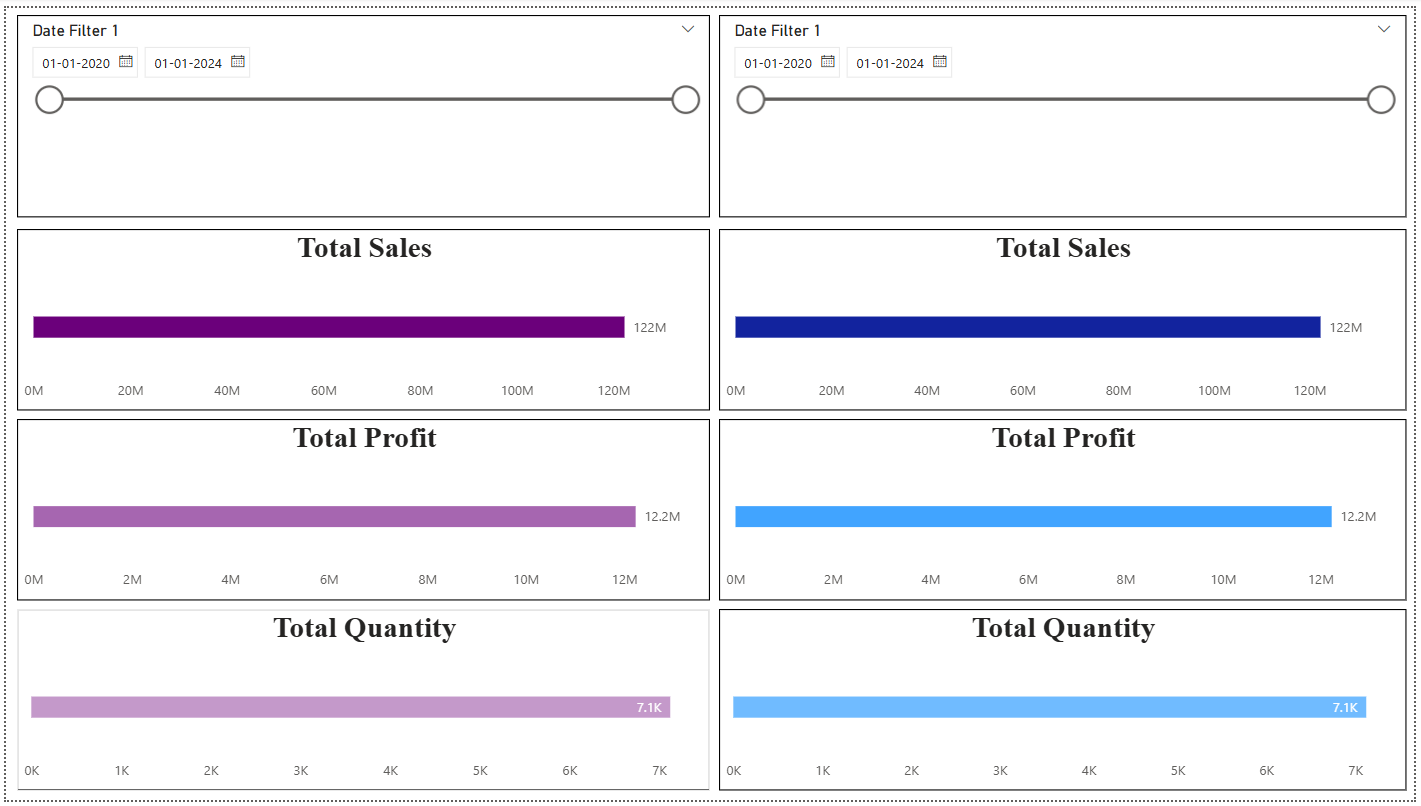

Layout of this report page (visuals, bound fields, positions):
{"tool":"powerbi","page":{"name":"Edit Interactions","canvas":[1280,720],"ordinal":3},"visuals":[{"type":"slicer","fields":{"Values":["Fact Table.Date (dd/mm/yyyy)"]},"box":[10,6.4,630,183.6],"z":0},{"type":"slicer","fields":{"Values":["Fact Table.Date (dd/mm/yyyy)"]},"box":[648.2,6.4,624.5,183.6],"z":1000},{"type":"barChart","fields":{"Y":["Sum(Fact Table.Net Sales)"]},"box":[10,200.9,630,165.5],"z":2000},{"type":"barChart","fields":{"Y":["Sum(Fact Table.Profit)"]},"box":[10,373.6,630,164.5],"z":3000},{"type":"barChart","fields":{"Y":["Sum(Fact Table.Units Sold)"]},"box":[10,546.4,630,165.5],"z":4000},{"type":"barChart","fields":{"Y":["Sum(Fact Table.Net Sales)"]},"box":[648.2,200.9,624.5,165.5],"z":5000},{"type":"barChart","fields":{"Y":["Sum(Fact Table.Profit)"]},"box":[648.2,373.6,624.5,164.5],"z":6000},{"type":"barChart","fields":{"Y":["Sum(Fact Table.Units Sold)"]},"box":[648.2,546.4,624.5,165.5],"z":7000}]}

Visuals, with their boxes in screenshot pixels (x1, y1, x2, y2), scaled from the page's 1280x720 canvas onto the 1421x806 screenshot:
slicer - Fact Table.Date (dd/mm/yyyy): 11:7:710:213
slicer - Fact Table.Date (dd/mm/yyyy): 720:7:1413:213
barChart - Sum(Fact Table.Net Sales): 11:225:710:410
barChart - Sum(Fact Table.Profit): 11:418:710:602
barChart - Sum(Fact Table.Units Sold): 11:612:710:797
barChart - Sum(Fact Table.Net Sales): 720:225:1413:410
barChart - Sum(Fact Table.Profit): 720:418:1413:602
barChart - Sum(Fact Table.Units Sold): 720:612:1413:797
